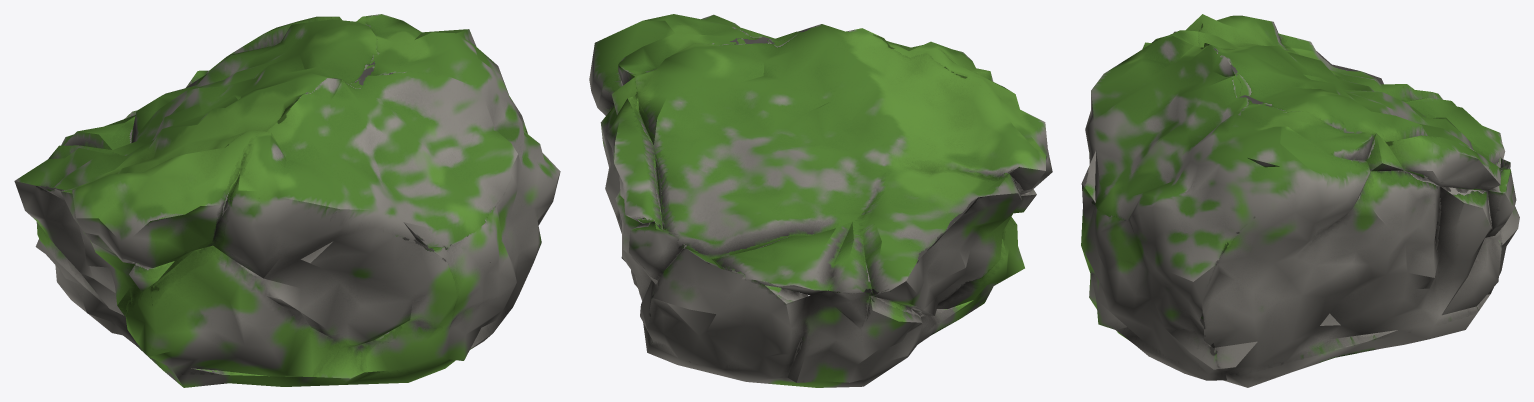
Rendered from roca_musgo.fbx.
3 views of the same model, side by side, from view 1: azimuth 30°, elevation 25°; view 2: azimuth 150°, elevation 25°; view 3: azimuth 270°, elevation 25° (orthographic). The views are drawn at different scales.
Parts seen in each view (by area): view 1: roca_musgo; view 2: roca_musgo; view 3: roca_musgo.
Boxes of the visible parts, x1,y1,x2,y2 form: roca_musgo: [14, 14, 560, 387]; roca_musgo: [589, 14, 1052, 387]; roca_musgo: [1081, 14, 1519, 387].
Size of the model in its own units: 2.46 by 1.35 by 2.17.
Materials: 1 (1 with a texture image).
